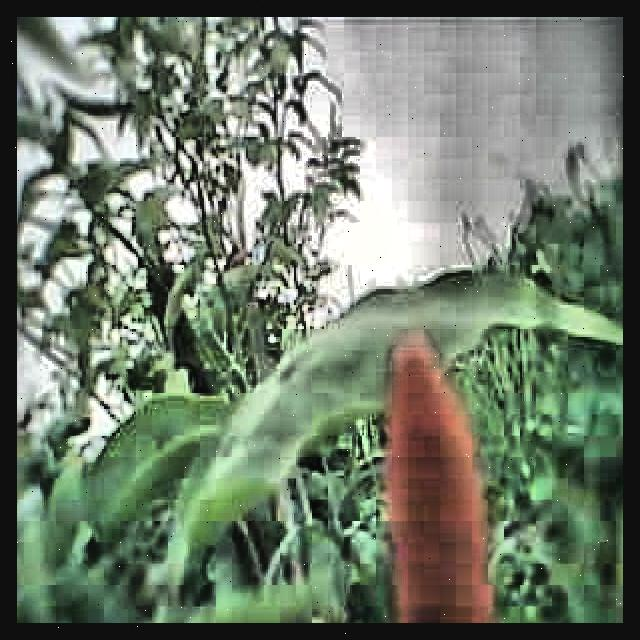Cabai: (378, 352, 485, 623)
